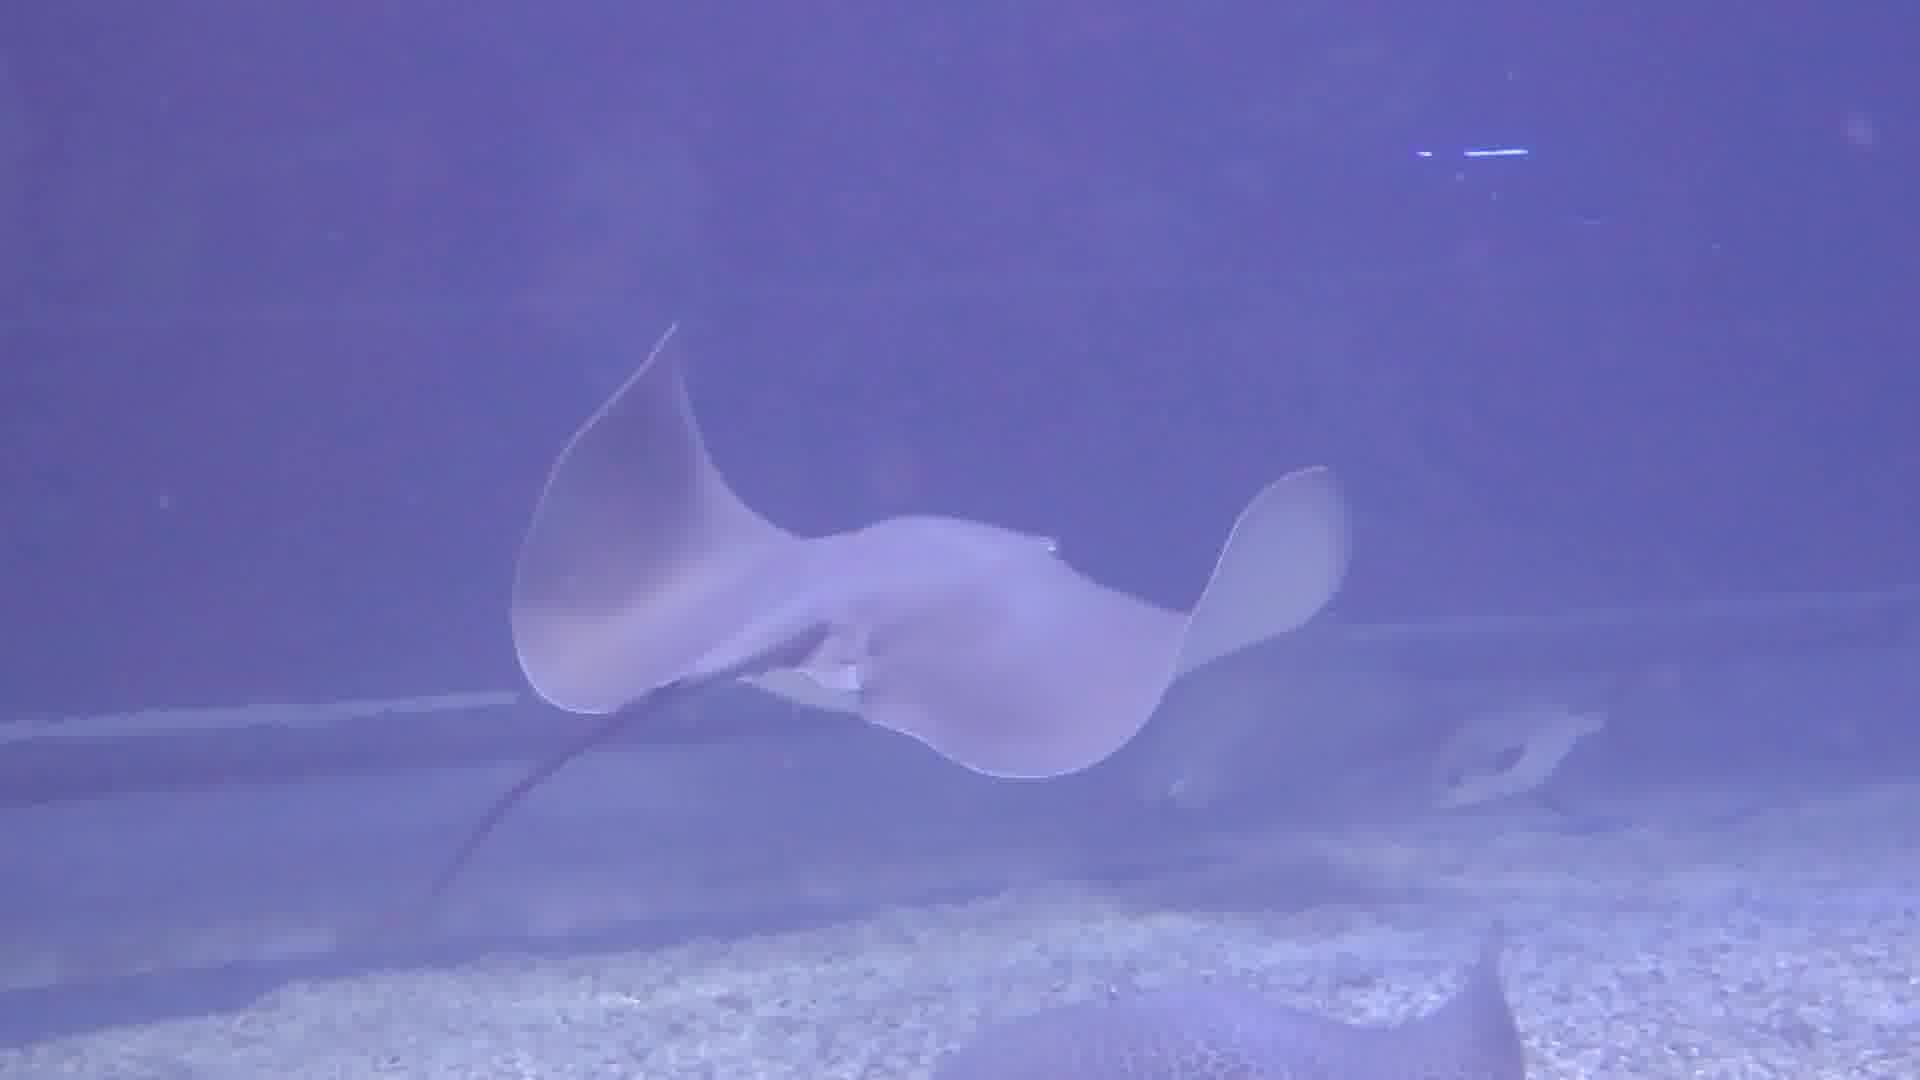Dasyatis akajei: (400, 311, 1400, 876)
